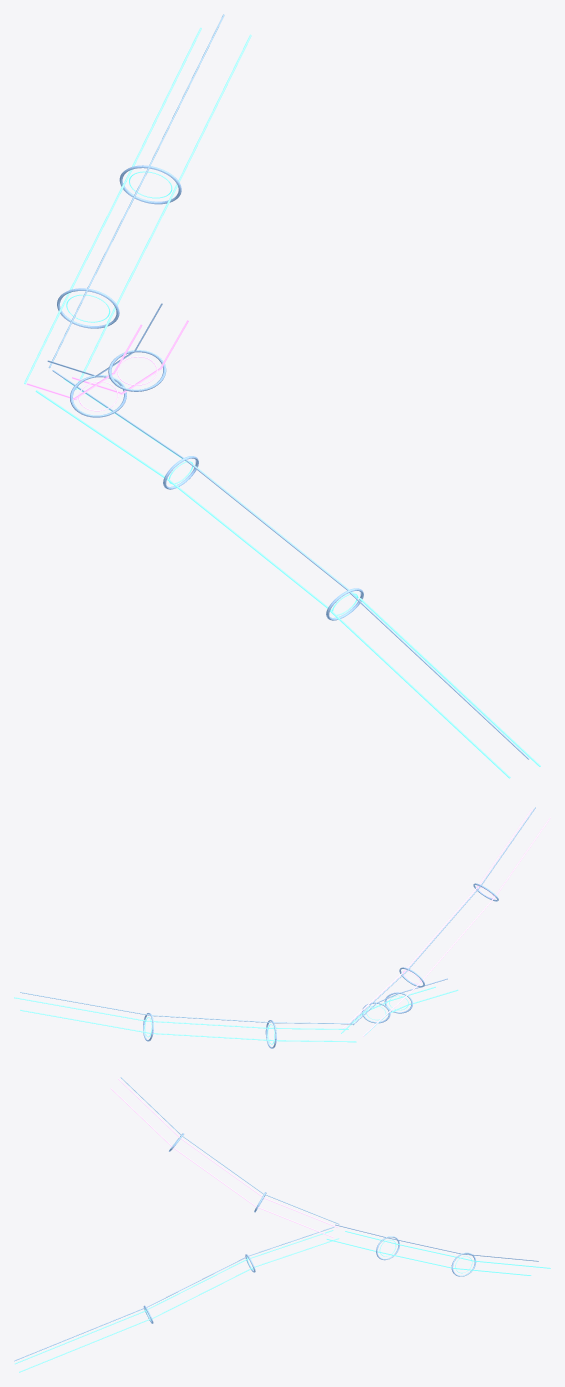
File: space_gravity_spine.glb
3 views of the same model, one above another, from view 1: azimuth 30°, elevation 25°; view 2: azimuth 150°, elevation 25°; view 3: azimuth 270°, elevation 25° (orthographic). The views are drawn at different scales.
Bounding box in the file's own units: 3028 × 2524 × 5382.
